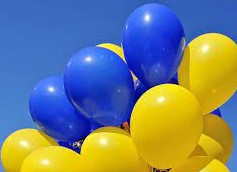Balloon: (130, 84, 202, 167), (63, 47, 134, 125), (122, 3, 183, 84), (178, 32, 237, 114), (81, 126, 150, 172)
